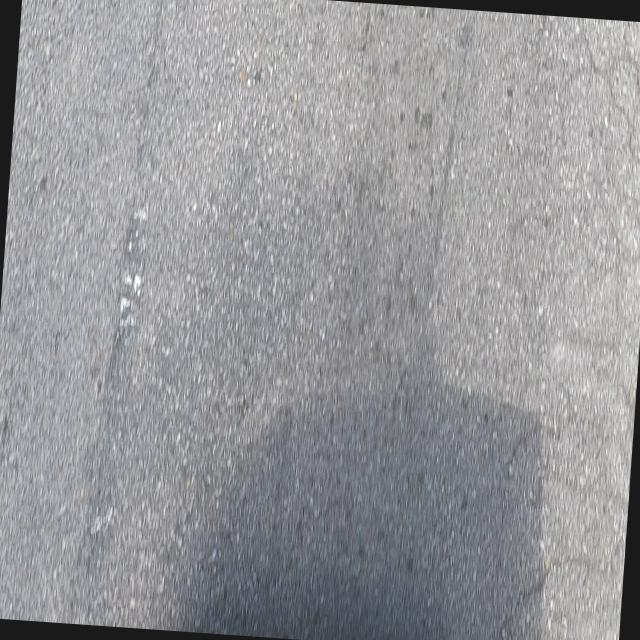Retak-Buaya: (499, 23, 640, 631)
